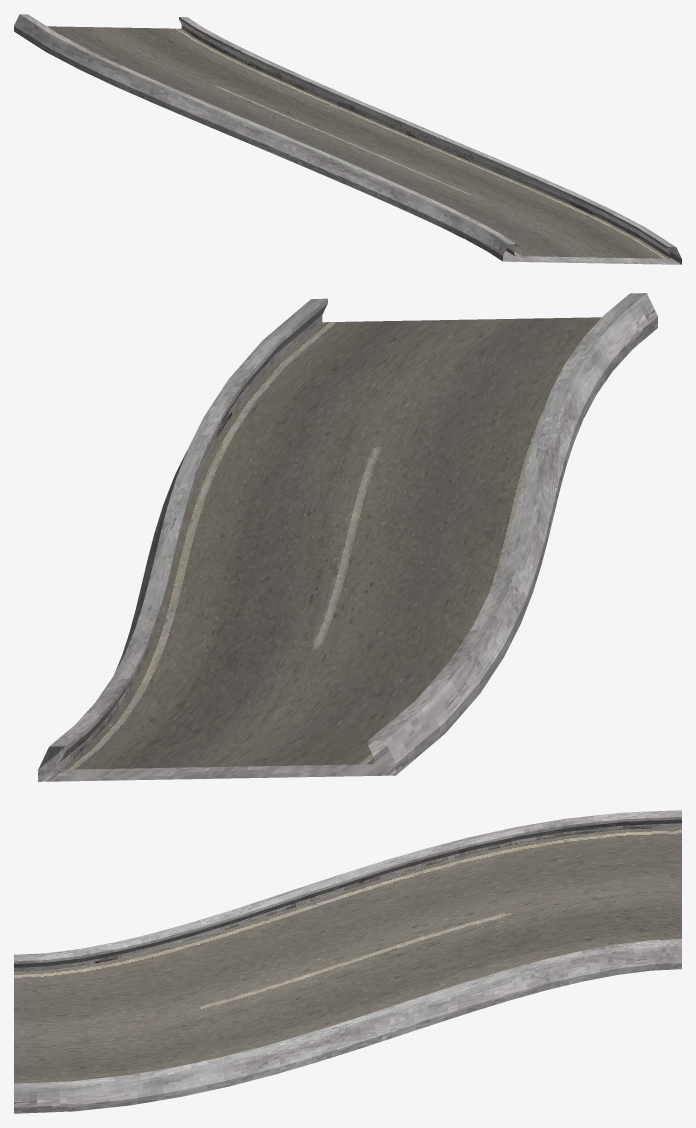
File: road-Chicane-HalfBankedRight-HalfBankedRight-Up1-Left1-Size3.glb
The picture shows the model from 3 angles, top to bottom: view 1: azimuth 30°, elevation 25°; view 2: azimuth 150°, elevation 25°; view 3: azimuth 270°, elevation 25°; orthographic projection. The views are drawn at different scales.
Visible parts, largest first — view 1: road-Chicane-HalfBankedRight-HalfBankedRight-Up1-Left1-Size3; view 2: road-Chicane-HalfBankedRight-HalfBankedRight-Up1-Left1-Size3; view 3: road-Chicane-HalfBankedRight-HalfBankedRight-Up1-Left1-Size3.
Part boxes in pixels (bbox=[...]): road-Chicane-HalfBankedRight-HalfBankedRight-Up1-Left1-Size3: bbox=[14, 14, 681, 264]; road-Chicane-HalfBankedRight-HalfBankedRight-Up1-Left1-Size3: bbox=[38, 293, 657, 781]; road-Chicane-HalfBankedRight-HalfBankedRight-Up1-Left1-Size3: bbox=[14, 810, 681, 1113].
Size of the model in its own units: 2 by 0.5859 by 3.
Materials: 2 (2 with a texture image).
